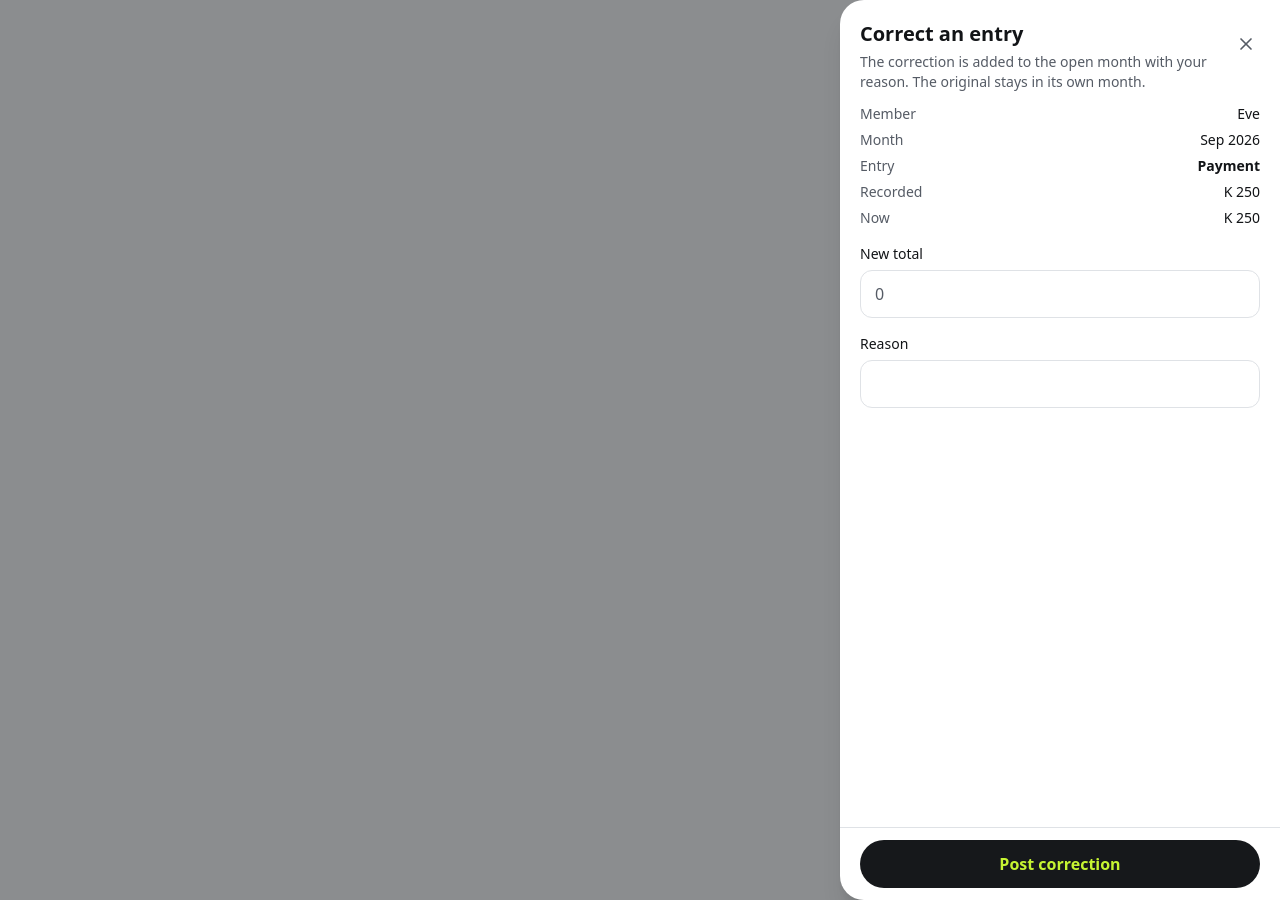
Scenario: the same total as now is refused, since it would change nothing
Type "250" into the field labelled "New total" at (1060, 294), box [860, 270, 1260, 318]
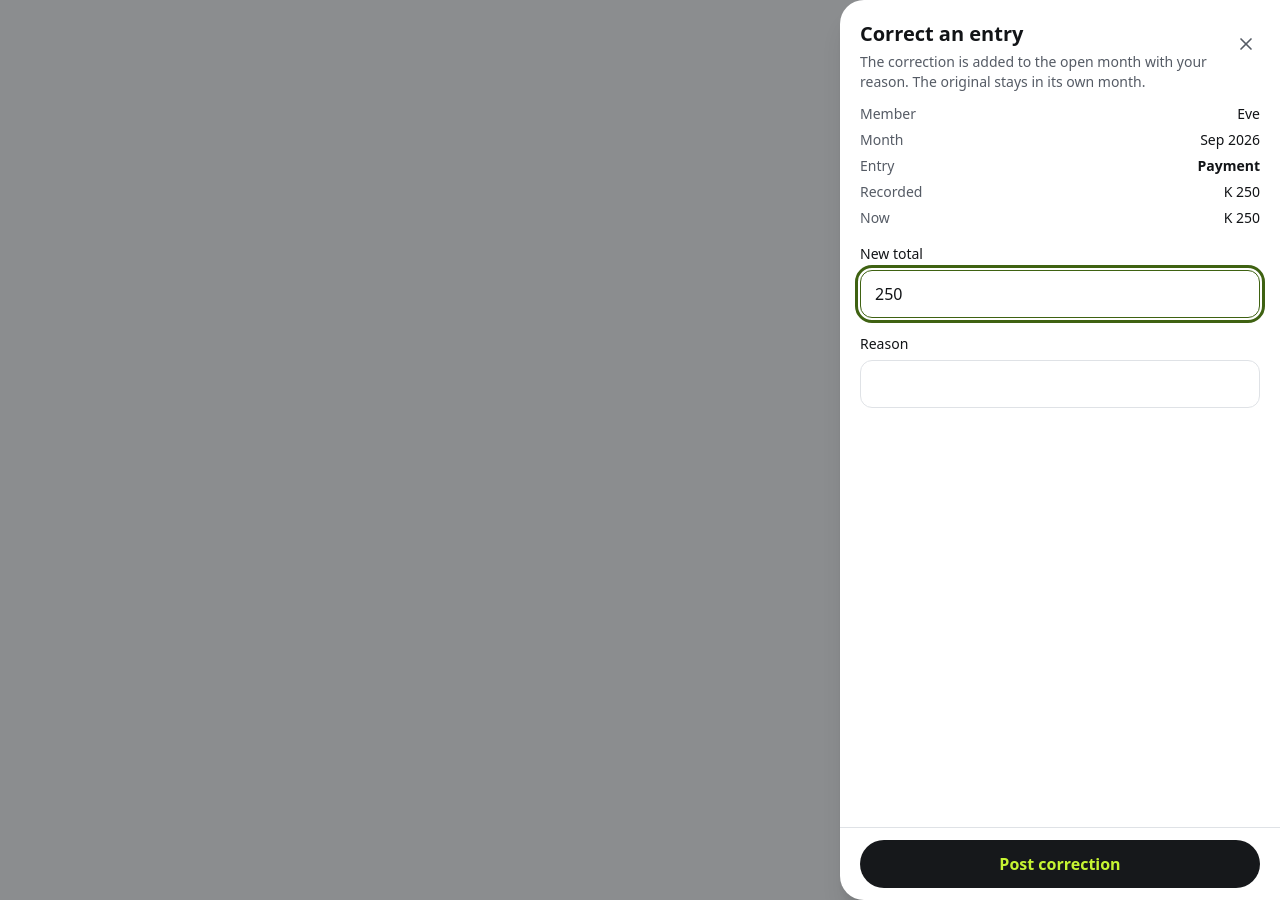
Type "x" into the field labelled "Reason" at (1060, 384), box [860, 360, 1260, 408]
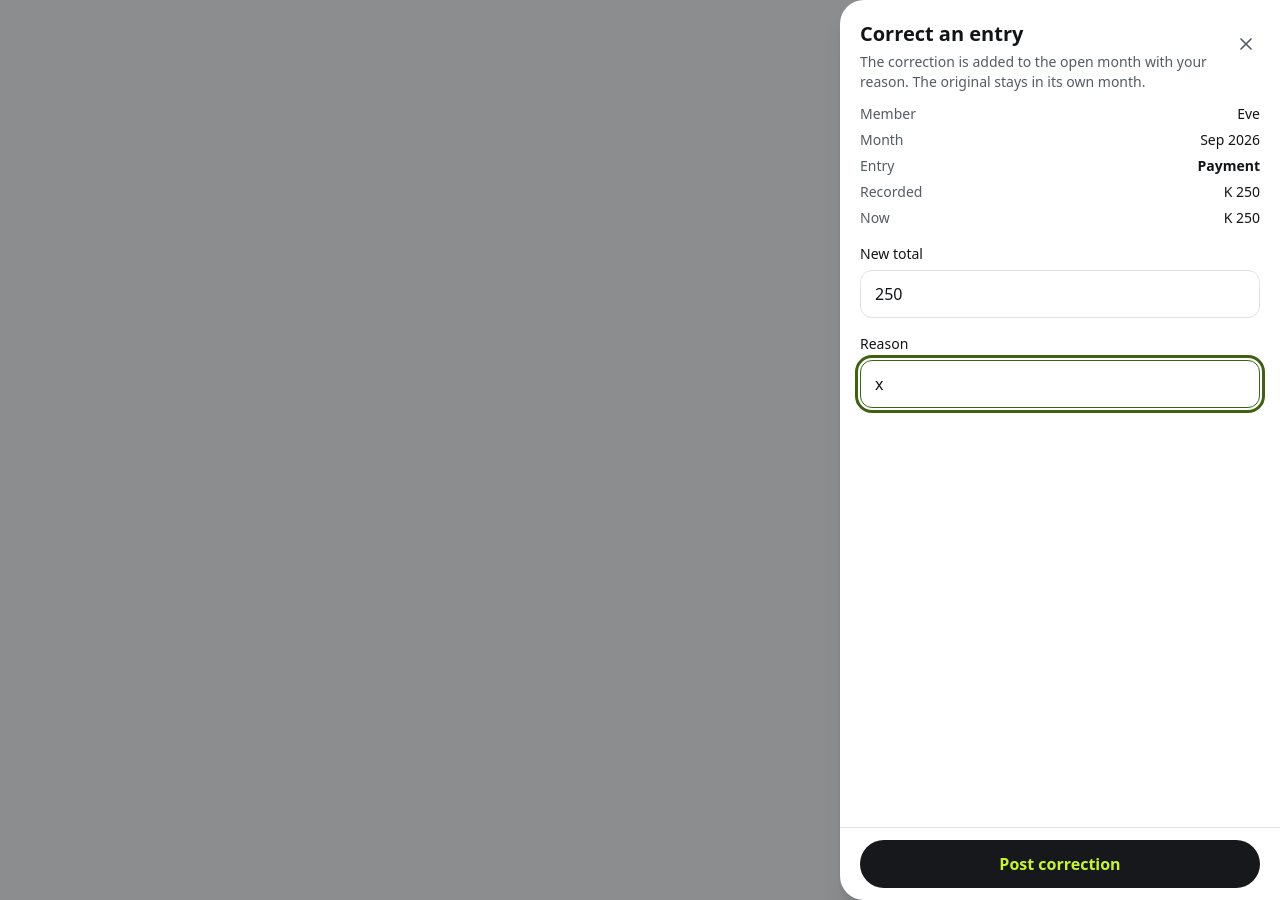
Click the button "Post correction" at (1060, 864), box [860, 840, 1260, 888]
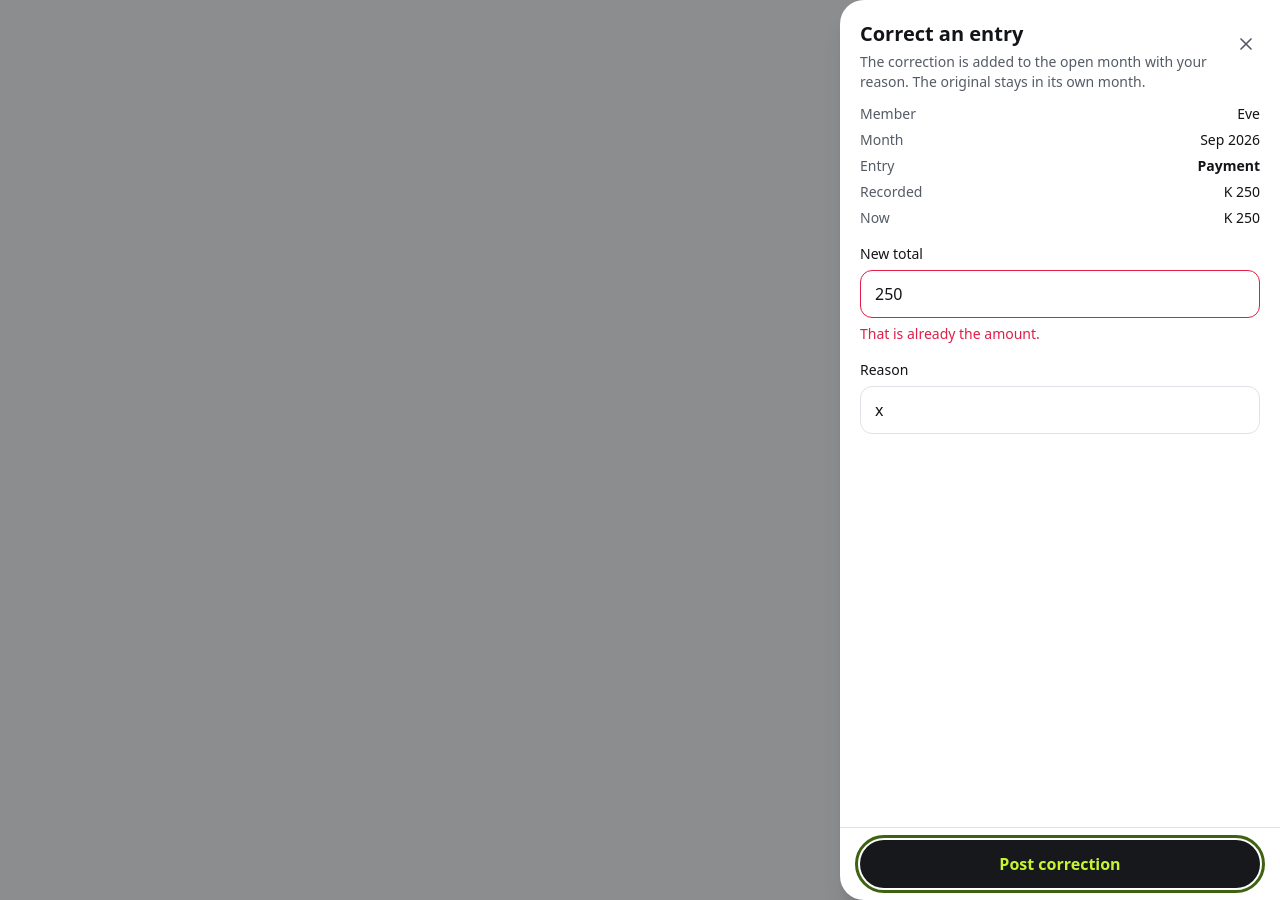
Expected: the text "That is already the amount." is shown, [860, 324, 1040, 343]
